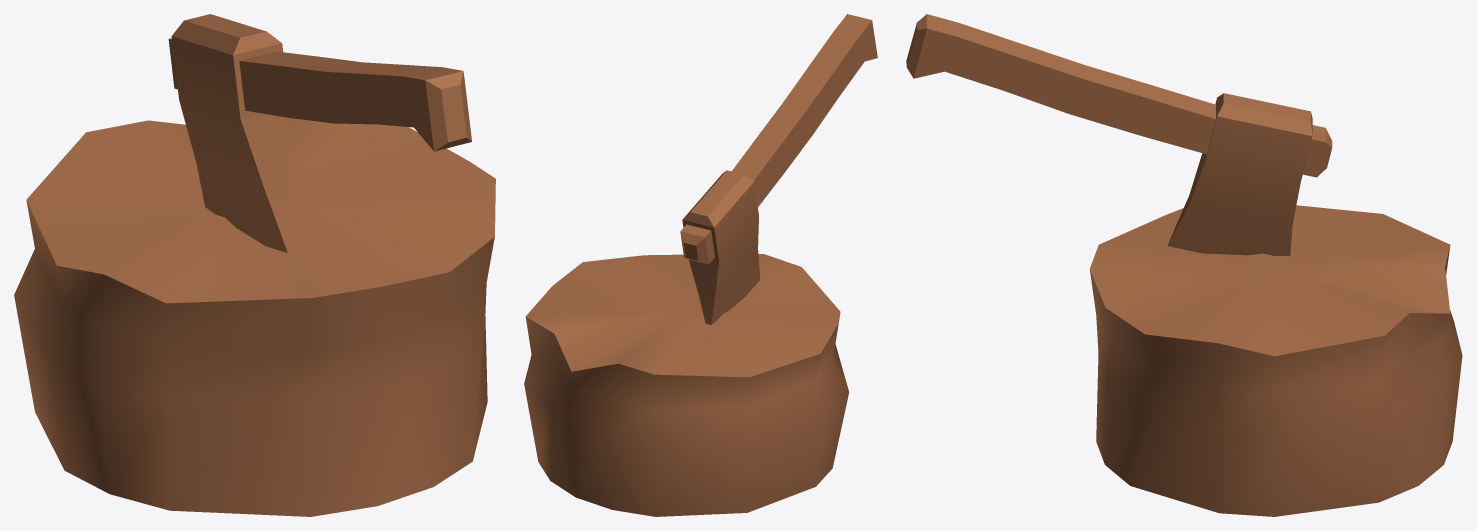
File: axe d stump.fbx
3 renders of one model, left to right at view 1: azimuth 30°, elevation 25°; view 2: azimuth 150°, elevation 25°; view 3: azimuth 270°, elevation 25°, orthographic. The views are drawn at different scales.
Visible parts, largest first — view 1: polySurface85, polySurface86; view 2: polySurface85, polySurface86; view 3: polySurface85, polySurface86.
Part boxes in pixels (box(x1,y1,x2,y2)): polySurface85: box(14, 118, 495, 516); polySurface86: box(168, 14, 471, 252); polySurface85: box(524, 254, 849, 516); polySurface86: box(680, 14, 877, 324); polySurface85: box(1089, 205, 1462, 516); polySurface86: box(906, 14, 1332, 255).
Bounding box in the file's own units: 0.6288 × 0.7364 × 0.9179.
